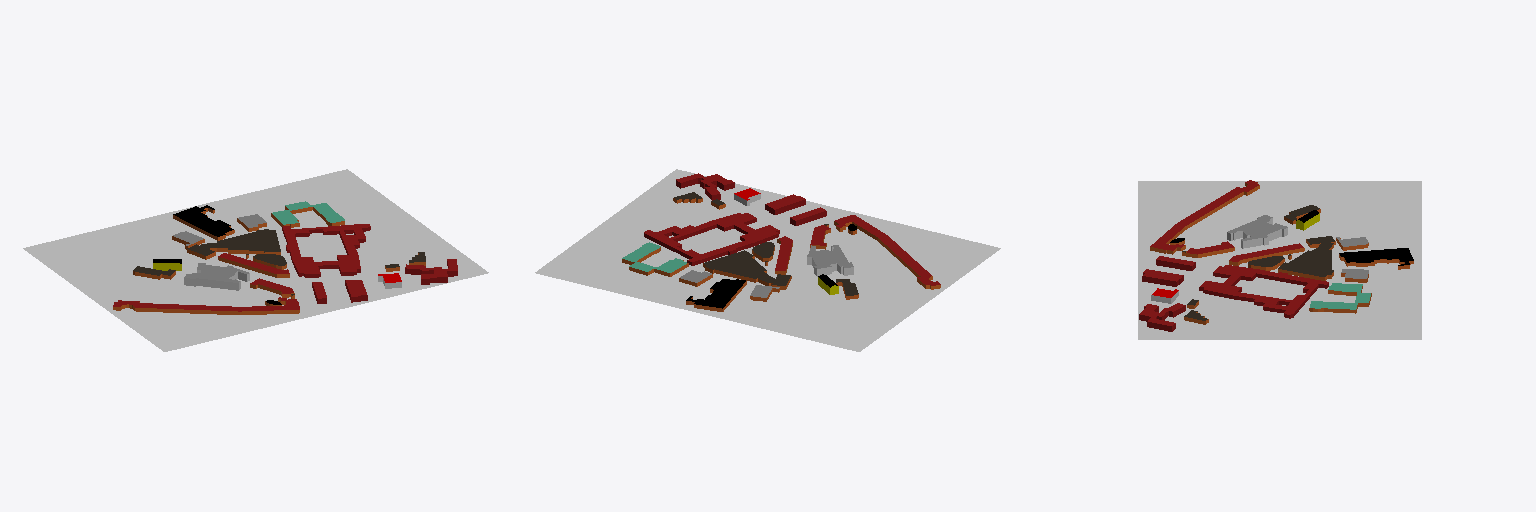
File: kth_campus_small.obj
3 renders of one model, left to right at view 1: azimuth 30°, elevation 25°; view 2: azimuth 150°, elevation 25°; view 3: azimuth 270°, elevation 25°, orthographic.
Bounding box in the file's own units: 0.5386 × 0.015 × 0.4079.